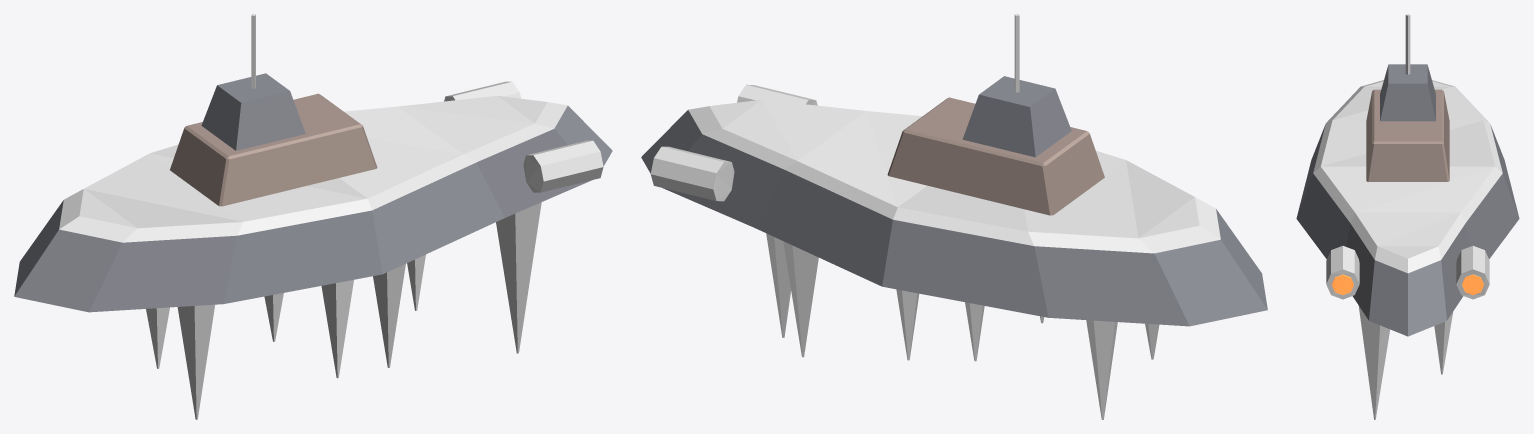
File: Ship_SkyBarge.fbx
The picture shows the model from 3 angles, left to right: view 1: azimuth 30°, elevation 25°; view 2: azimuth 150°, elevation 25°; view 3: azimuth 270°, elevation 25°; orthographic projection. The views are drawn at different scales.
Visible parts, largest first — view 1: Ship_SkyBarge; view 2: Ship_SkyBarge; view 3: Ship_SkyBarge.
Part boxes in pixels (x1,y1,x2,y2): Ship_SkyBarge: (14,14,612,419); Ship_SkyBarge: (641,14,1267,419); Ship_SkyBarge: (1296,14,1519,419).
Bounding box in the file's own units: 30 × 18.32 × 12.
